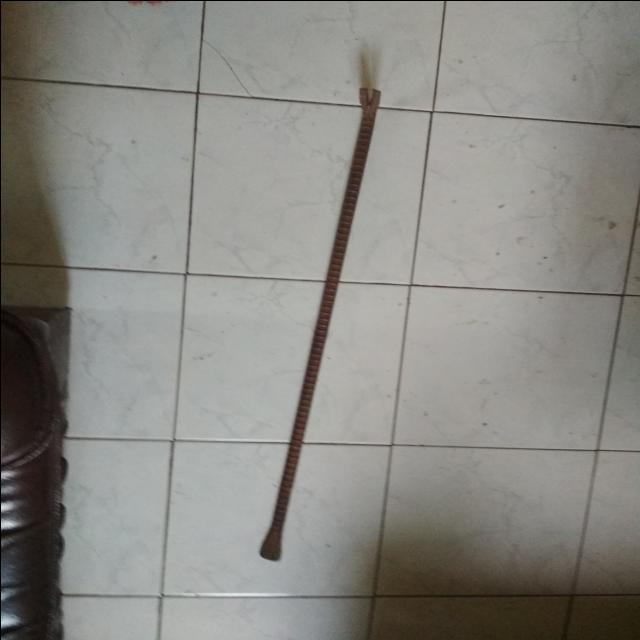Linggis: (251, 87, 385, 561)
